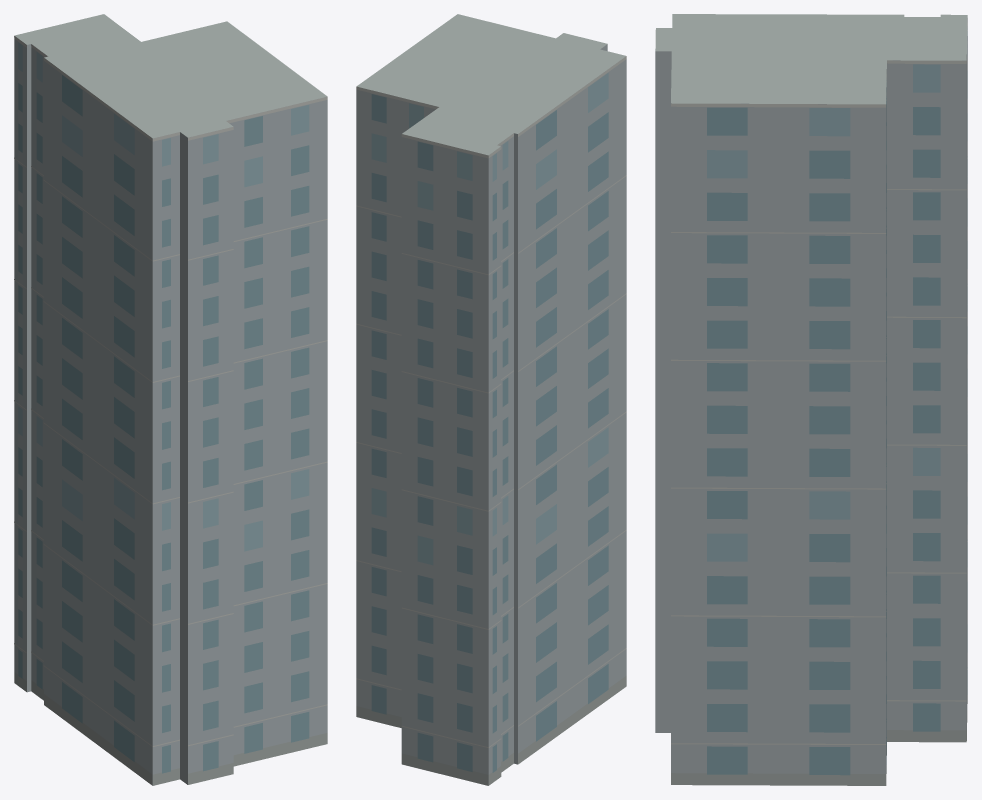
Rendered from survey-upis-32560074.glb.
3 views of the same model, side by side, from view 1: azimuth 30°, elevation 25°; view 2: azimuth 150°, elevation 25°; view 3: azimuth 270°, elevation 25° (orthographic). The views are drawn at different scales.
Parts seen in each view (by area): view 1: survey-upis-32560074.tmp; view 2: survey-upis-32560074.tmp; view 3: survey-upis-32560074.tmp.
Boxes of the visible parts, x1,y1,x2,y2 form: survey-upis-32560074.tmp: (14, 14, 327, 785); survey-upis-32560074.tmp: (356, 14, 626, 785); survey-upis-32560074.tmp: (655, 14, 967, 785).
Bounding box in the file's own units: 14.23 × 49.95 × 20.76.
